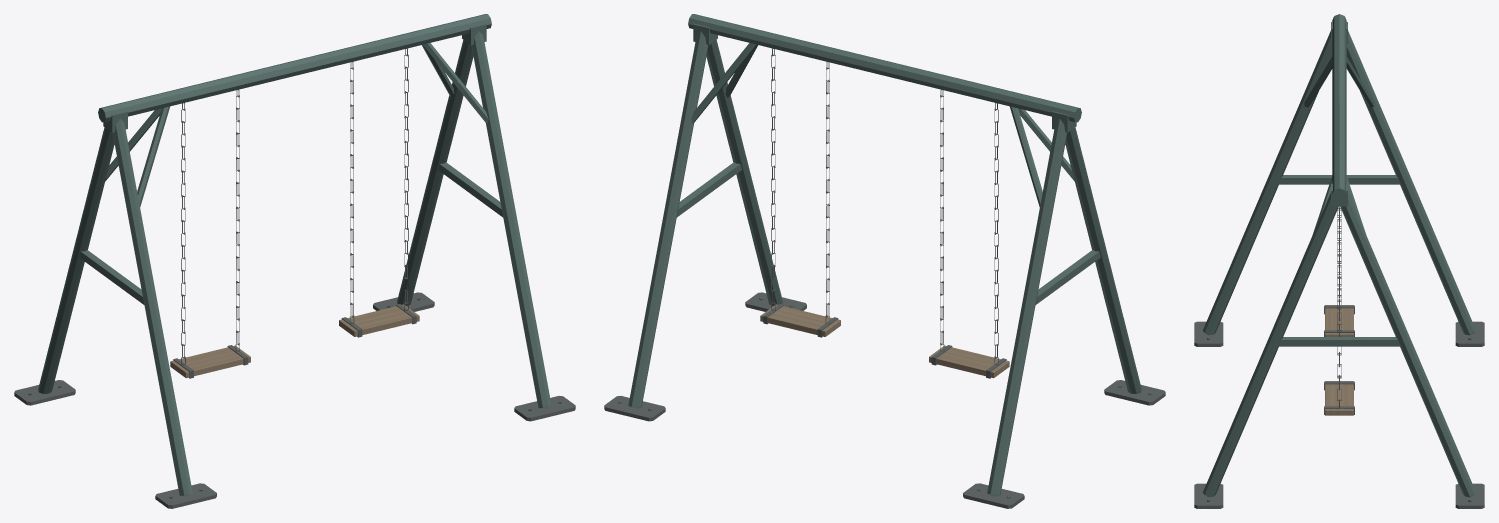
File: playground_swing_with_seat.glb
The picture shows the model from 3 angles, left to right: view 1: azimuth 30°, elevation 25°; view 2: azimuth 150°, elevation 25°; view 3: azimuth 270°, elevation 25°; orthographic projection. The views are drawn at different scales.
Parts seen in each view (by area): view 1: PlaygroundSwingWithSeat; view 2: PlaygroundSwingWithSeat; view 3: PlaygroundSwingWithSeat.
Boxes of the visible parts, x1,y1,x2,y2 form: PlaygroundSwingWithSeat: [14, 14, 575, 508]; PlaygroundSwingWithSeat: [604, 14, 1165, 508]; PlaygroundSwingWithSeat: [1194, 14, 1484, 508].
Size of what is drawn, in the model's own units: 3 by 2.4 by 2.
Materials: 1 (1 with a texture image).
